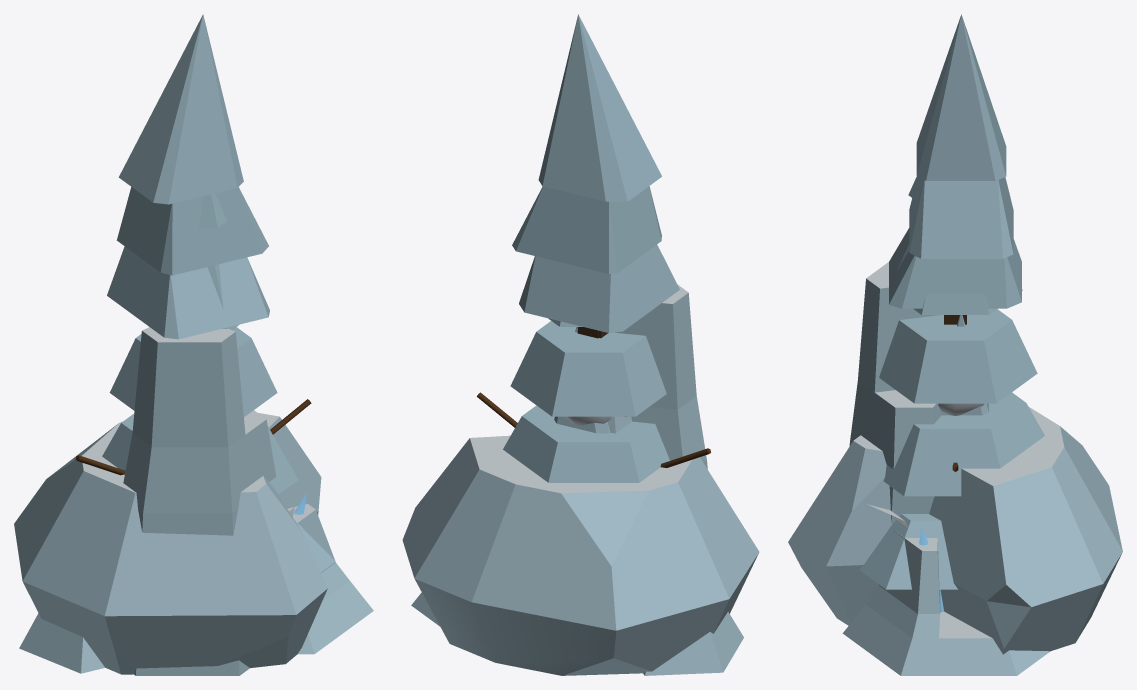
The model's file is props_island4.glb.
The picture shows the model from 3 angles, left to right: view 1: azimuth 30°, elevation 25°; view 2: azimuth 150°, elevation 25°; view 3: azimuth 270°, elevation 25°; orthographic projection. The views are drawn at different scales.
Visible parts, largest first — view 1: ice_rock_b, ice_rock_a, pine_a, pine_b, snowman; view 2: ice_rock_b, pine_a, pine_b, ice_rock_a, snowman; view 3: ice_rock_b, pine_b, pine_a, ice_rock_a.
Part boxes in pixels (x1,y1,x2,y2): ice_rock_b: (14,413,327,674); ice_rock_a: (19,327,373,675); pine_a: (107,14,269,339); pine_b: (102,193,335,571); snowman: (75,399,311,475); ice_rock_b: (402,435,759,675); pine_a: (512,14,679,338); pine_b: (503,318,669,482); ice_rock_a: (411,284,743,675); snowman: (477,392,710,467); ice_rock_b: (788,407,1122,654); pine_b: (859,176,1044,589); pine_a: (889,14,1021,308); ice_rock_a: (842,262,1050,675).
Bounding box in the file's own units: 1.69 × 3.25 × 1.63.
